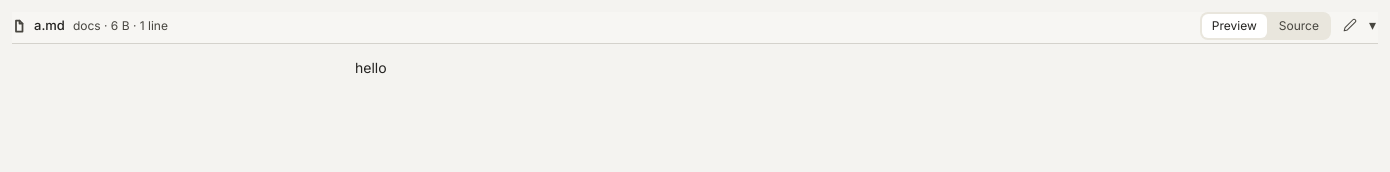
Test: WorkspaceFileTab header › remembers the mode across tabs for the app run
Click the button with class "workspace-file-tab-seg-button" showing "Source".
click(1299, 26)  # box [1269,14,1329,38]
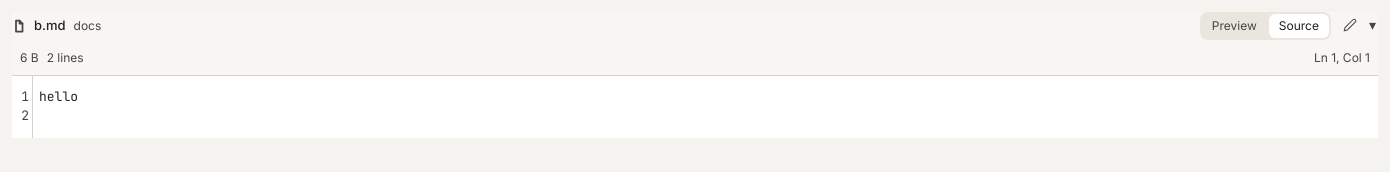
Expected: the element with class "workspace-file-tab-preview" is gone
Expected: the element with test id "file-source-editor" is shown, [12,76,1378,138]
